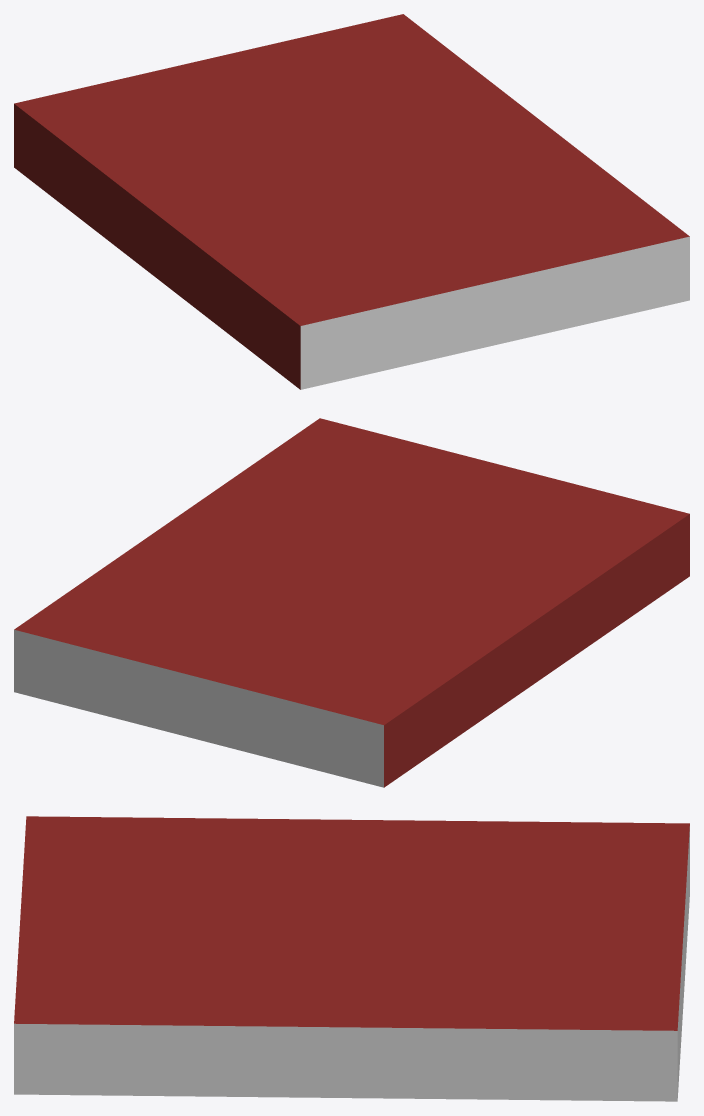
The model's file is Livro4.fbx.
3 views of the same model, one above another, from view 1: azimuth 30°, elevation 25°; view 2: azimuth 150°, elevation 25°; view 3: azimuth 270°, elevation 25° (orthographic). The views are drawn at different scales.
Parts seen in each view (by area): view 1: livro; view 2: livro; view 3: livro.
Boxes of the visible parts, bbox=[...] form: livro: bbox=[14, 14, 689, 389]; livro: bbox=[14, 418, 689, 787]; livro: bbox=[14, 816, 689, 1101].
Size of the model in its own units: 0.0805 by 0.0124 by 0.1072.
